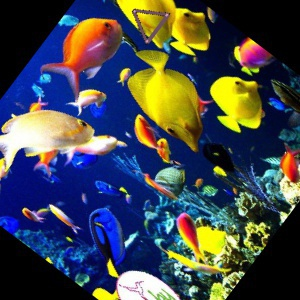triangle: (131, 7, 171, 45)
